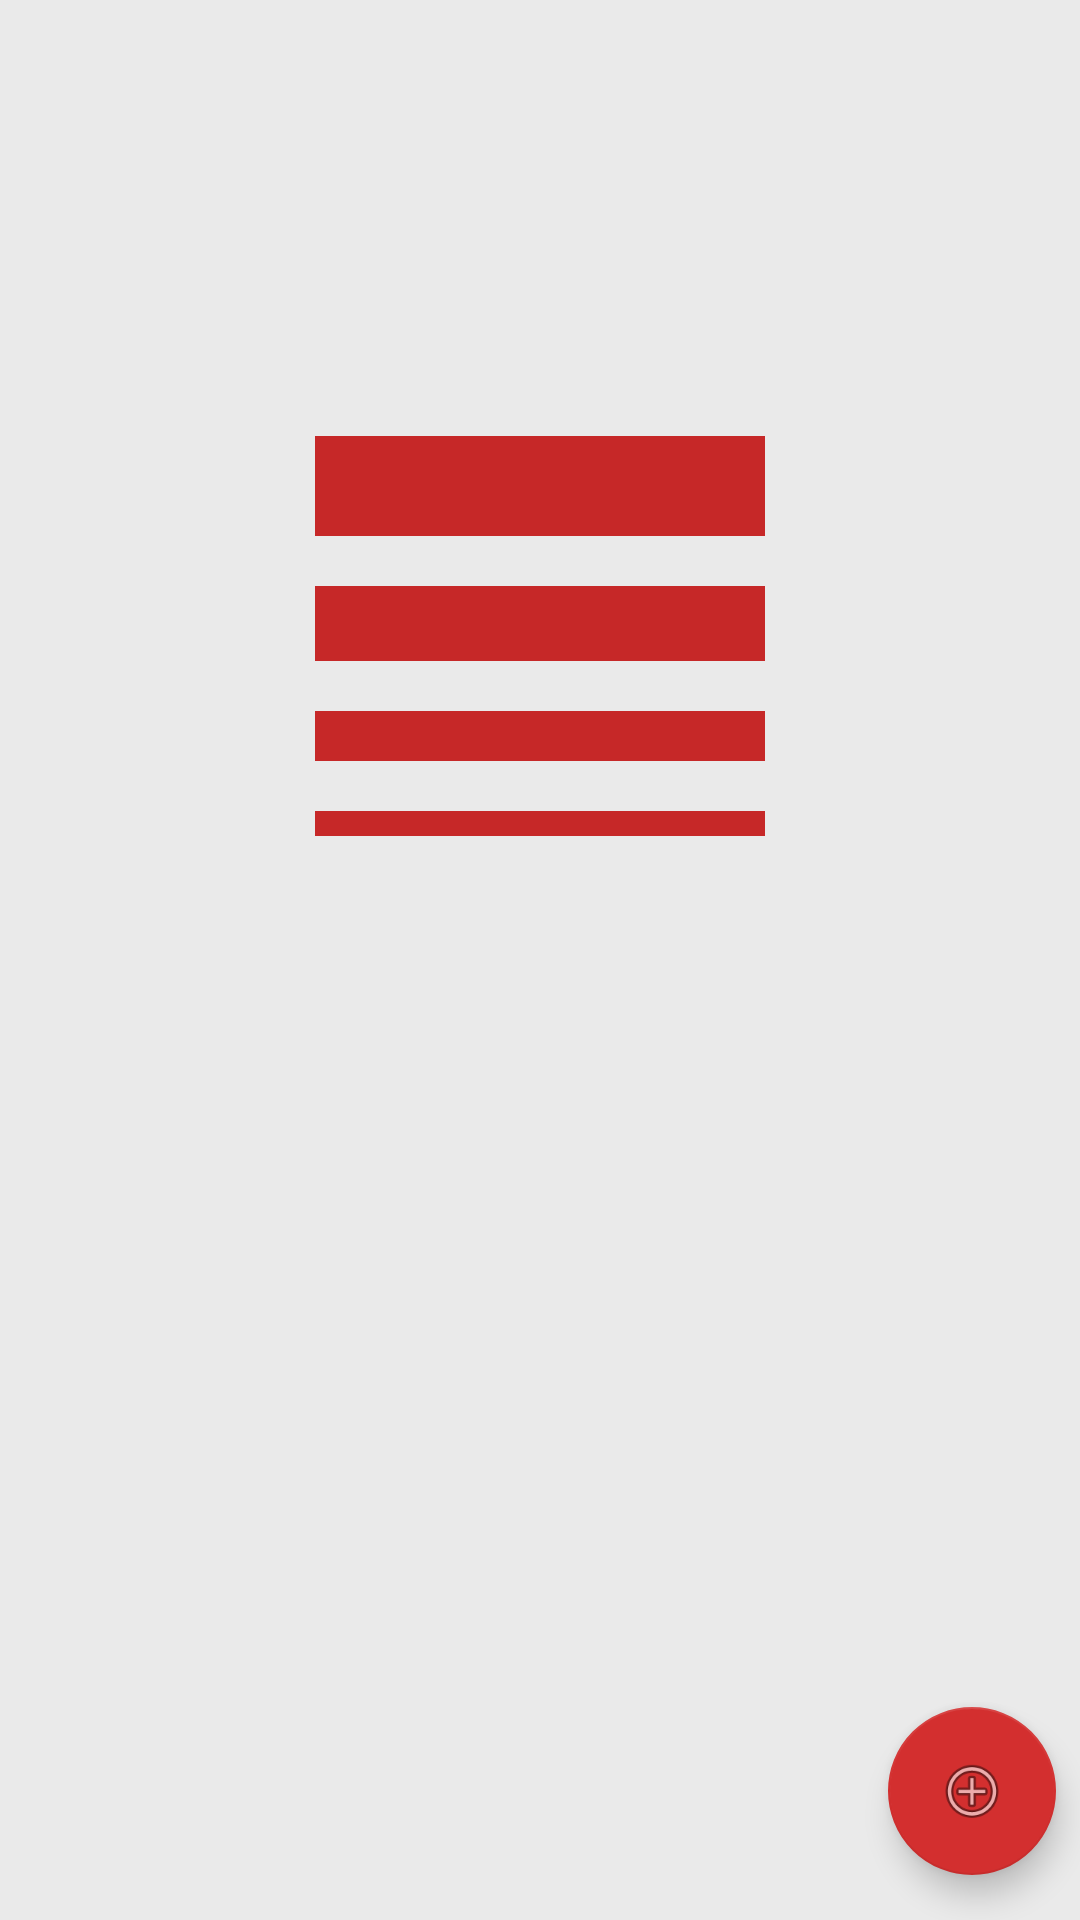

Point at icon controls on the screen. Image size 1080 × 1920, points as [x,y].
add: [972,1791]
